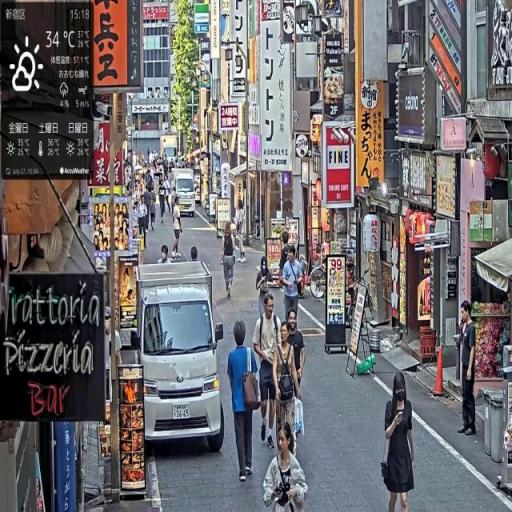person: (227, 319, 264, 481), (382, 373, 417, 512), (254, 290, 282, 449), (263, 421, 309, 512), (273, 323, 304, 456), (457, 301, 479, 438), (281, 247, 304, 331), (221, 221, 238, 300), (172, 195, 185, 261)
